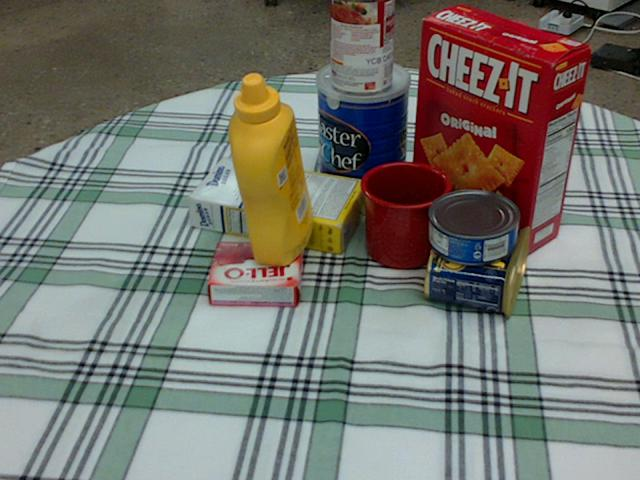cracker_box: (410, 3, 593, 253)
gelatin_box: (207, 243, 305, 307)
master_chef_can: (316, 58, 410, 209)
mug: (361, 161, 453, 268)
mustard_bottle: (228, 72, 312, 266)
potted_meat_can: (424, 212, 532, 312)
sugar_box: (185, 156, 366, 253)
tomato_soup_can: (330, 0, 395, 94)
tuna_fish_can: (428, 190, 519, 263)
